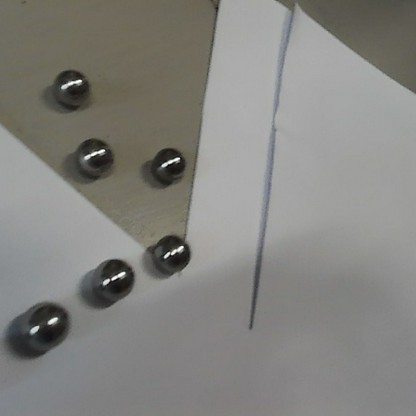ironball: (20, 297, 71, 348), (89, 258, 137, 301), (50, 66, 92, 109), (149, 230, 191, 273), (74, 136, 113, 176), (153, 145, 184, 184)
